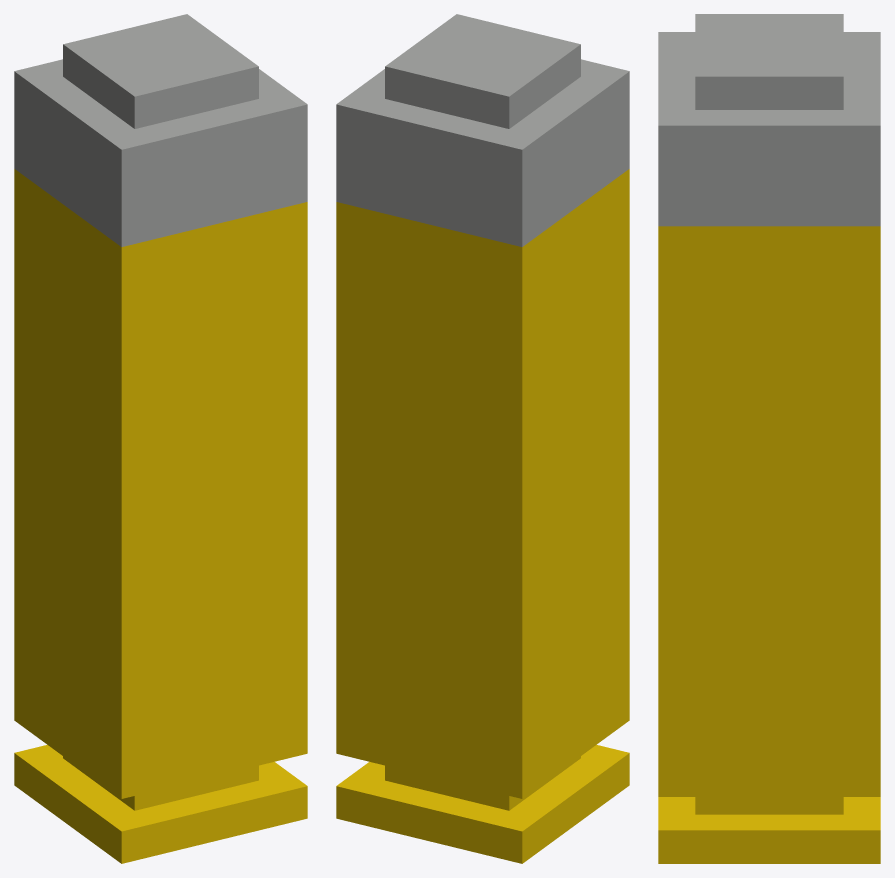
Rendered from revolver_bullet.fbx.
The picture shows the model from 3 angles, left to right: view 1: azimuth 30°, elevation 25°; view 2: azimuth 150°, elevation 25°; view 3: azimuth 270°, elevation 25°; orthographic projection. The views are drawn at different scales.
Parts seen in each view (by area): view 1: revolver_bullet_capsule, revolver_bullet; view 2: revolver_bullet_capsule, revolver_bullet; view 3: revolver_bullet_capsule, revolver_bullet.
Part boxes in pixels (x1,y1,x2,y2): revolver_bullet_capsule: (14, 169, 307, 863); revolver_bullet: (14, 14, 307, 246); revolver_bullet_capsule: (336, 169, 629, 863); revolver_bullet: (336, 14, 629, 246); revolver_bullet_capsule: (658, 226, 880, 863); revolver_bullet: (658, 14, 880, 226).
Size of the model in its own units: 1.8 by 6.9 by 1.8.
